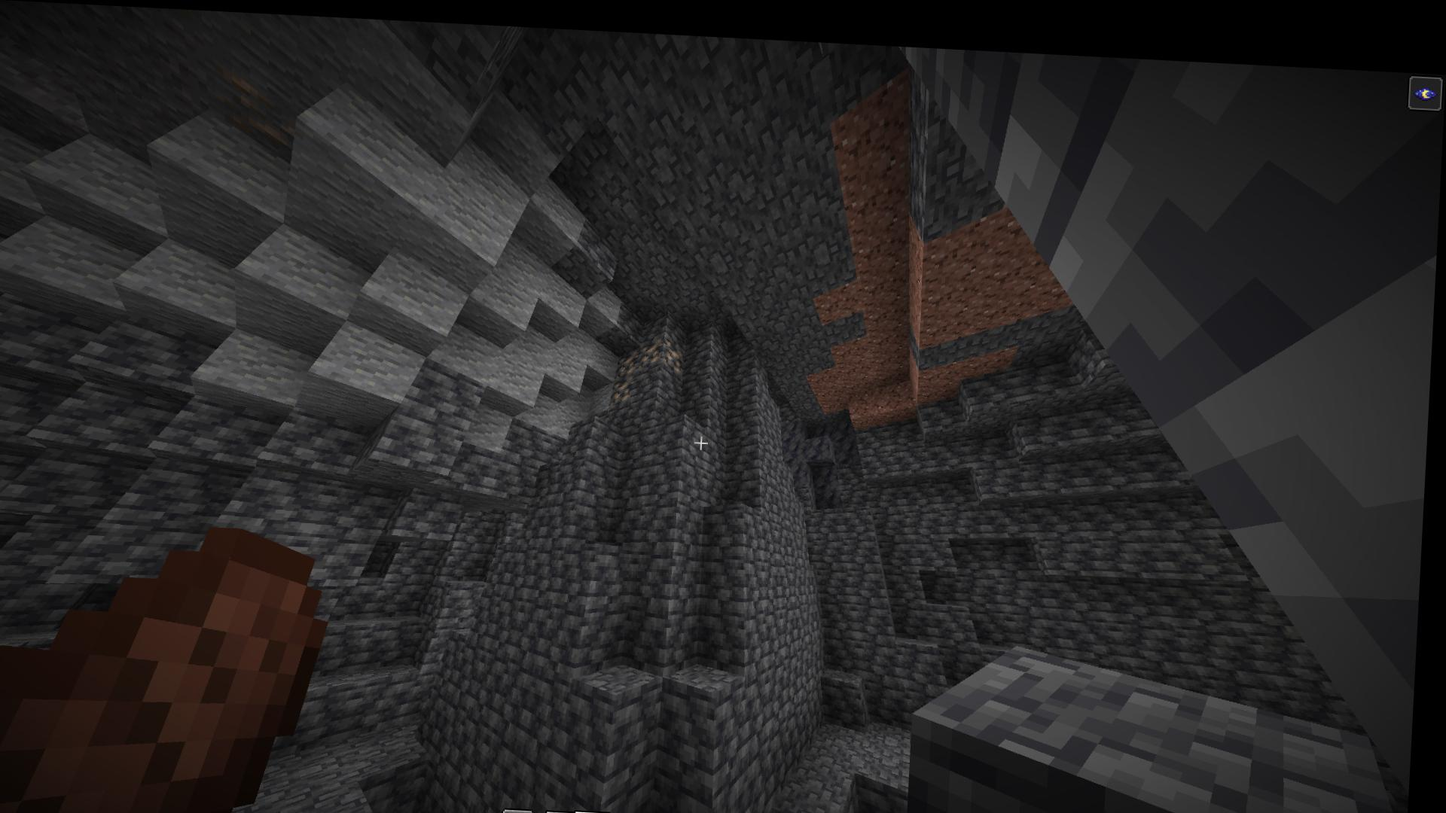iron ore: (666, 332, 689, 368), (614, 374, 642, 400), (616, 346, 643, 371), (644, 333, 666, 360)
